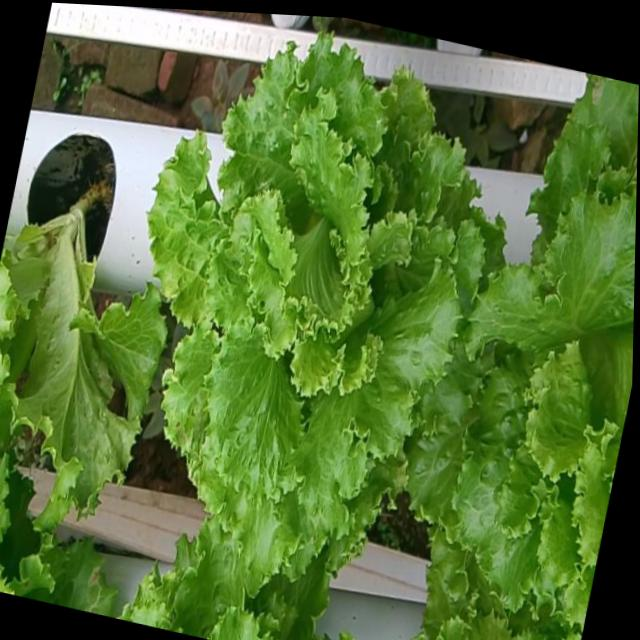Mature: (152, 34, 490, 575), (410, 177, 637, 606)
